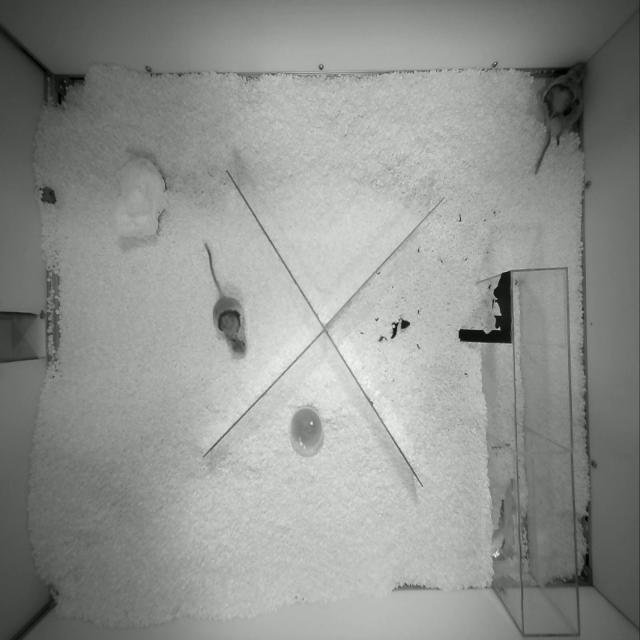adult_front: (205, 242, 246, 354)
